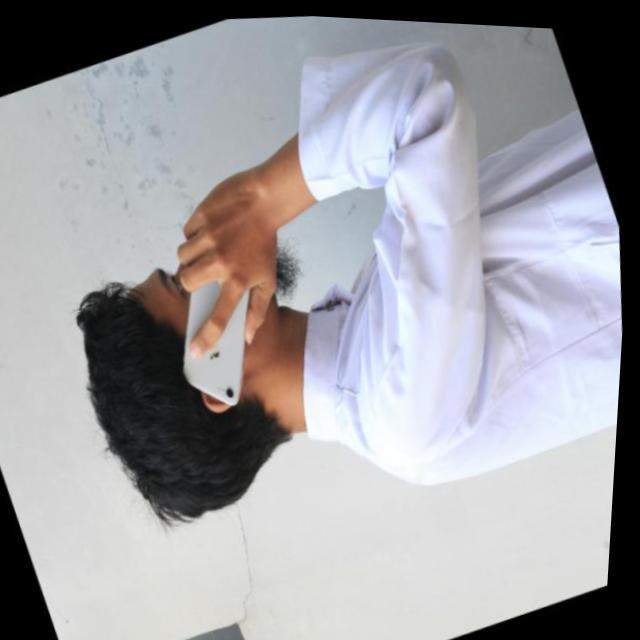use_mobile: (174, 175, 280, 408)
